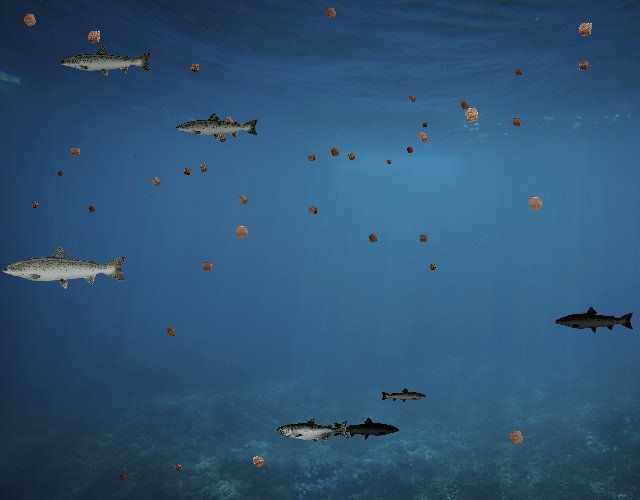Fish: (0, 244, 129, 290), (59, 44, 153, 78), (174, 111, 260, 142), (555, 305, 636, 334), (277, 417, 350, 444), (333, 416, 401, 441), (381, 388, 428, 404)
Pellet: (571, 15, 599, 43), (246, 449, 271, 474), (455, 96, 474, 115), (343, 149, 360, 166), (170, 460, 185, 475), (116, 470, 130, 484), (426, 260, 440, 274), (28, 198, 42, 212)
